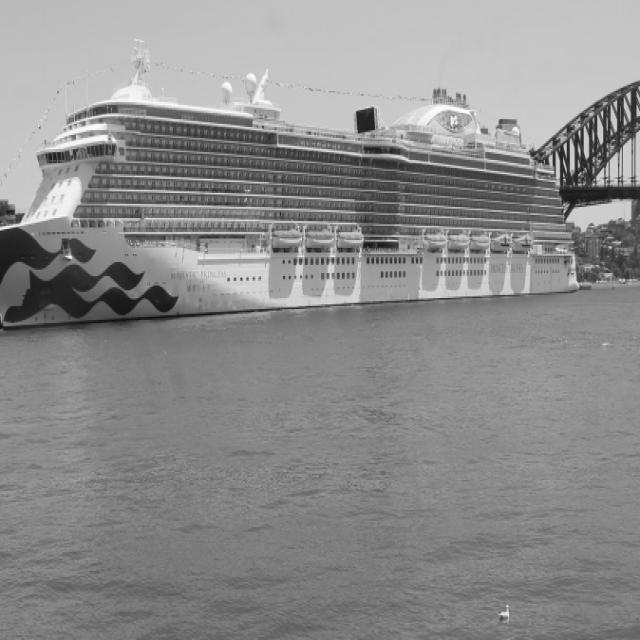cruises: (1, 32, 589, 340)
